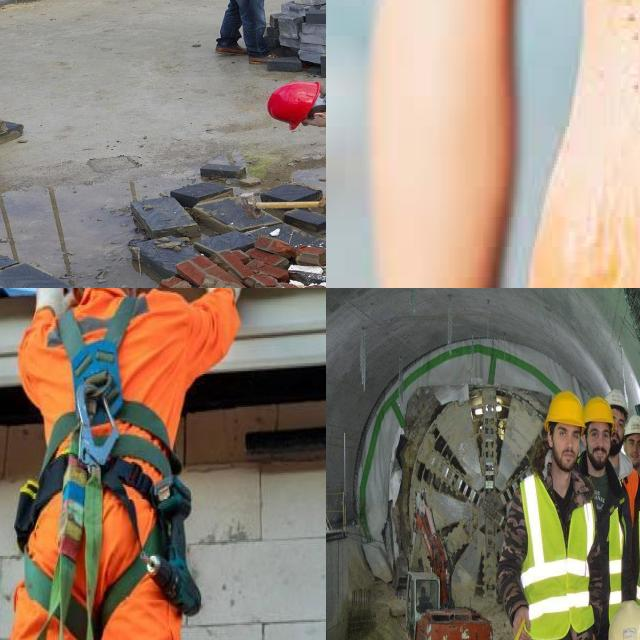Harness: (16, 295, 201, 640)
Sandals: (509, 0, 640, 288)
face_nomask: (552, 428, 582, 474), (587, 423, 610, 463), (304, 103, 326, 134), (623, 433, 640, 461)
hand_glove: (316, 194, 326, 215)
head_helmet: (264, 76, 318, 127), (607, 601, 640, 640), (546, 392, 584, 425), (581, 393, 615, 424), (605, 390, 627, 409), (624, 415, 640, 434)
person: (527, 397, 588, 640), (587, 395, 615, 528), (219, 0, 280, 51), (616, 400, 640, 494)
shoes: (208, 37, 256, 62)
vest: (523, 472, 598, 634), (604, 505, 640, 584)
